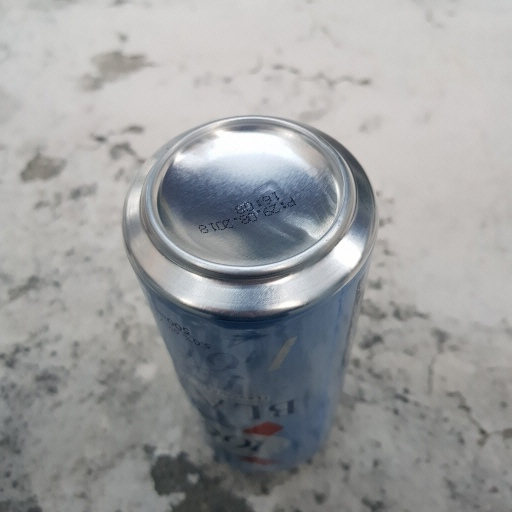Metal_0: (123, 117, 379, 470)
